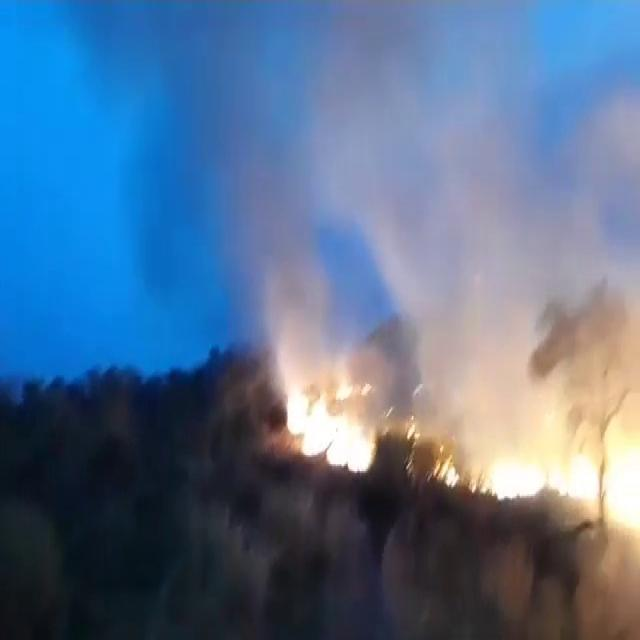Fire: (494, 430, 639, 587), (288, 381, 374, 478)
Smoke: (206, 0, 635, 466)
